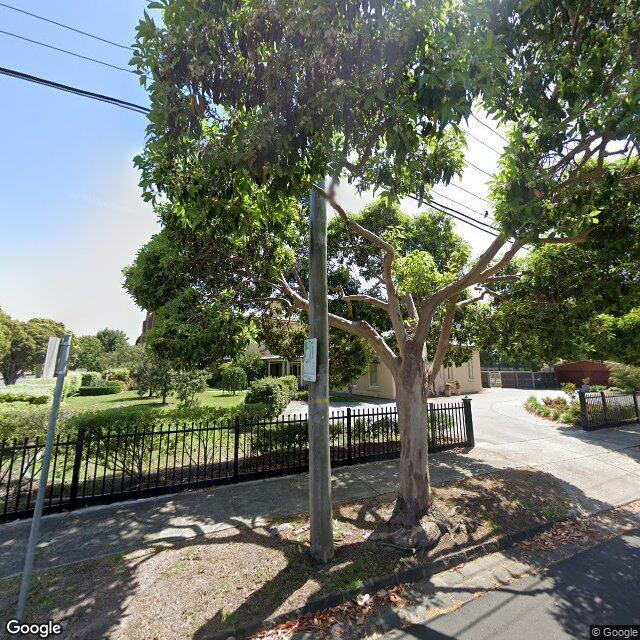timber-pole: (308, 136, 336, 561)
